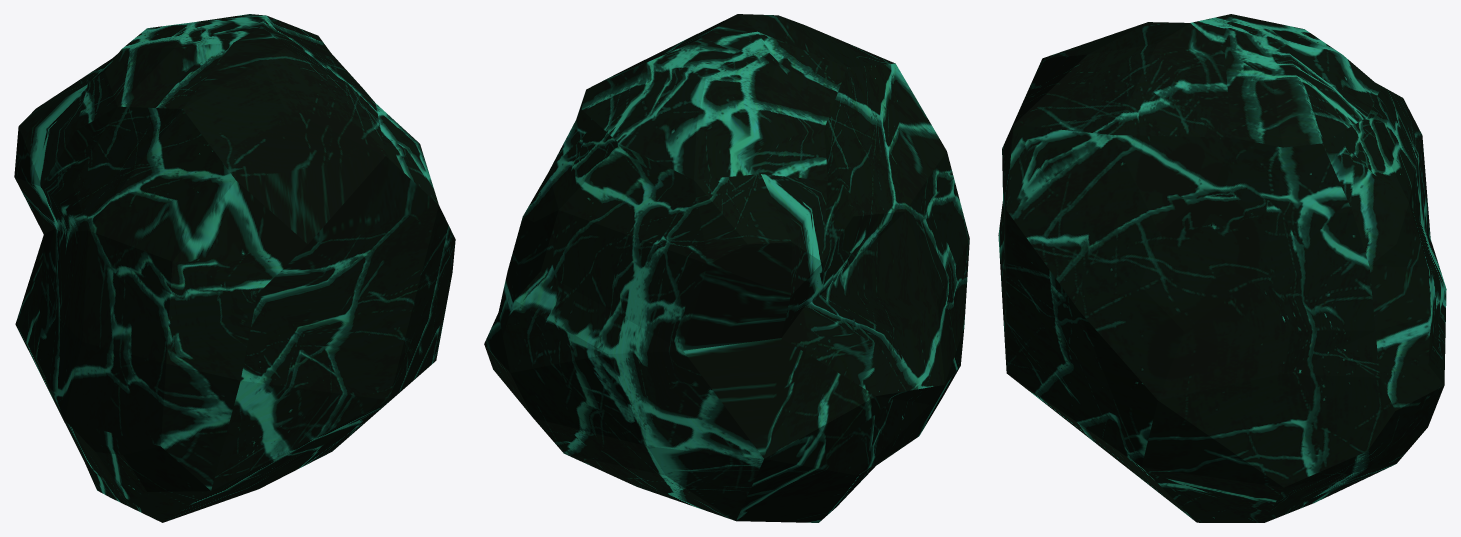
Rendered from verdant_vein_obsidian.glb.
3 renders of one model, left to right at view 1: azimuth 30°, elevation 25°; view 2: azimuth 150°, elevation 25°; view 3: azimuth 270°, elevation 25°, orthographic. The views are drawn at different scales.
Visible parts, largest first — view 1: StoneLowPoly3_STONE_LowPoly_polySurface1; view 2: StoneLowPoly3_STONE_LowPoly_polySurface1; view 3: StoneLowPoly3_STONE_LowPoly_polySurface1.
Boxes of the visible parts, left/top/right/bottom form: StoneLowPoly3_STONE_LowPoly_polySurface1: left=14, top=14, right=455, bottom=522; StoneLowPoly3_STONE_LowPoly_polySurface1: left=484, top=14, right=969, bottom=522; StoneLowPoly3_STONE_LowPoly_polySurface1: left=998, top=14, right=1446, bottom=522.
Size of the model in its own units: 0.021 by 0.0236 by 0.0207.
1 material, 1 textured.
